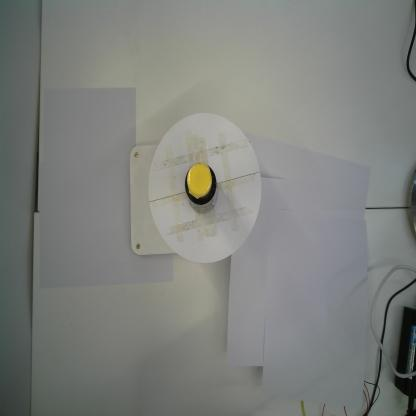Seasoner: (184, 162, 219, 214)
